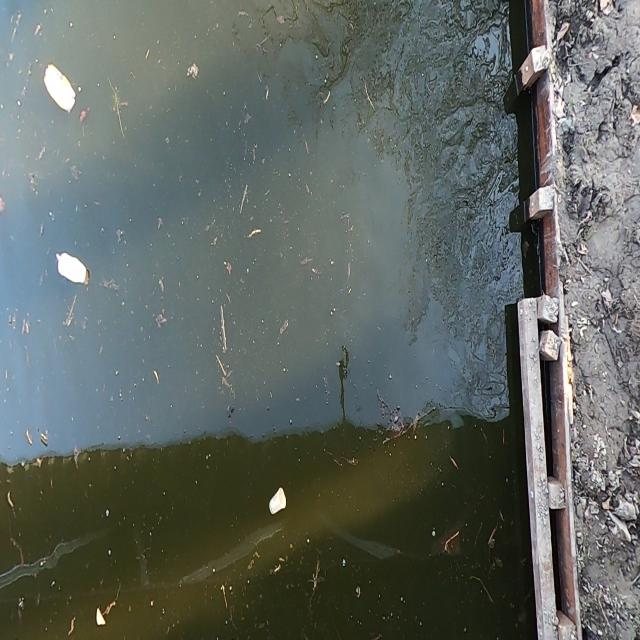Non plastique: (40, 60, 82, 118), (52, 244, 90, 291), (261, 483, 292, 518)
